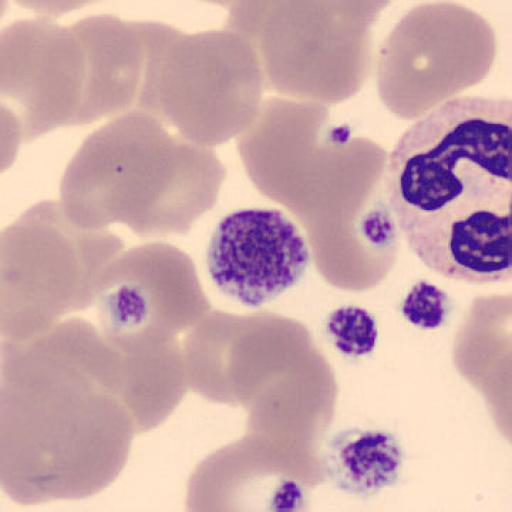Platelet: (202, 205, 314, 308), (322, 424, 410, 498), (322, 301, 382, 361), (397, 275, 456, 333)
RBC: (234, 101, 397, 293), (0, 315, 138, 504), (200, 308, 339, 483), (236, 96, 388, 226), (238, 308, 341, 490), (90, 110, 228, 241), (292, 140, 405, 294), (2, 379, 136, 504), (60, 112, 192, 236), (0, 202, 108, 342), (375, 0, 497, 121), (181, 304, 322, 408), (3, 196, 125, 312), (152, 28, 266, 148), (228, 316, 339, 433), (82, 240, 211, 338), (88, 312, 191, 434), (258, 1, 376, 105), (30, 392, 136, 502), (116, 136, 228, 239), (236, 98, 333, 214), (48, 12, 143, 128), (243, 376, 339, 490), (302, 184, 401, 293), (2, 17, 86, 140), (376, 6, 464, 120), (2, 222, 85, 342), (182, 433, 297, 512), (1, 396, 81, 507), (461, 281, 512, 455), (182, 309, 270, 406), (452, 288, 512, 403), (475, 307, 512, 453), (476, 352, 512, 453), (324, 0, 398, 27), (4, 0, 114, 17), (1, 96, 22, 178)
WBC: (391, 97, 512, 285)
